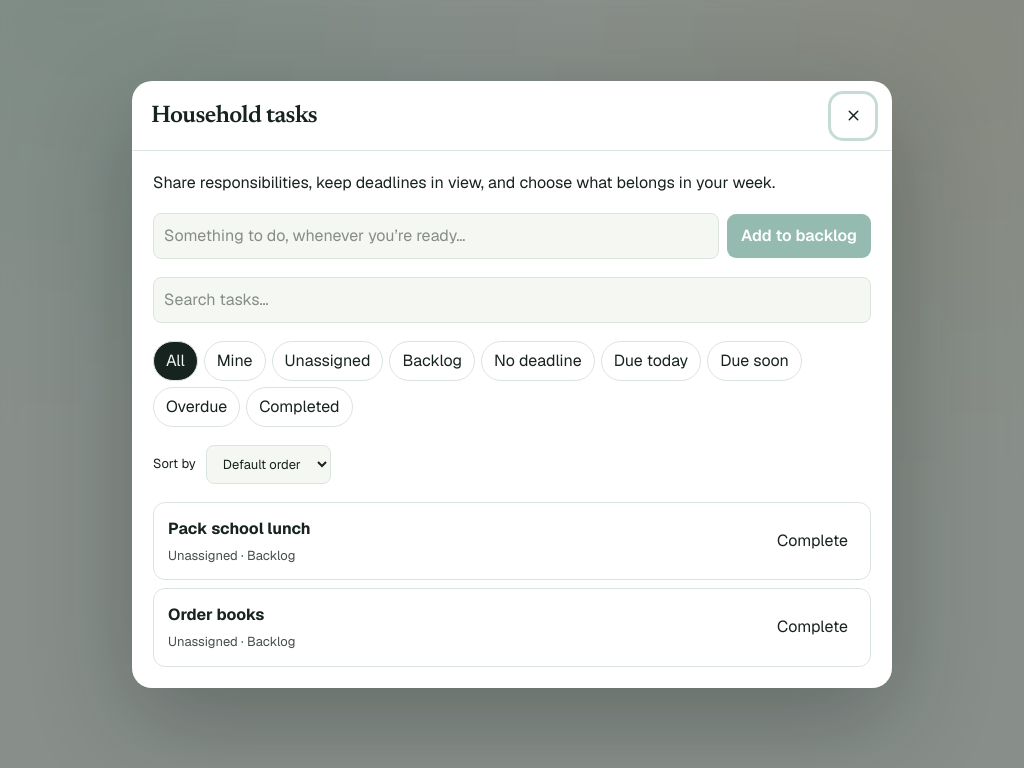
Test: task workspace search › combines text with completion filters and restores the selected view when cleared
The width and height of the screenshot is (1024, 768).
Expected: the button "Pack school lunch Unassigned · Backlog" is shown, 168,516 -> 757,565
Type "  SCHOOL  " into the search field labelled "Search tasks". click: {"x": 512, "y": 300}
box: 153,276 -> 871,322
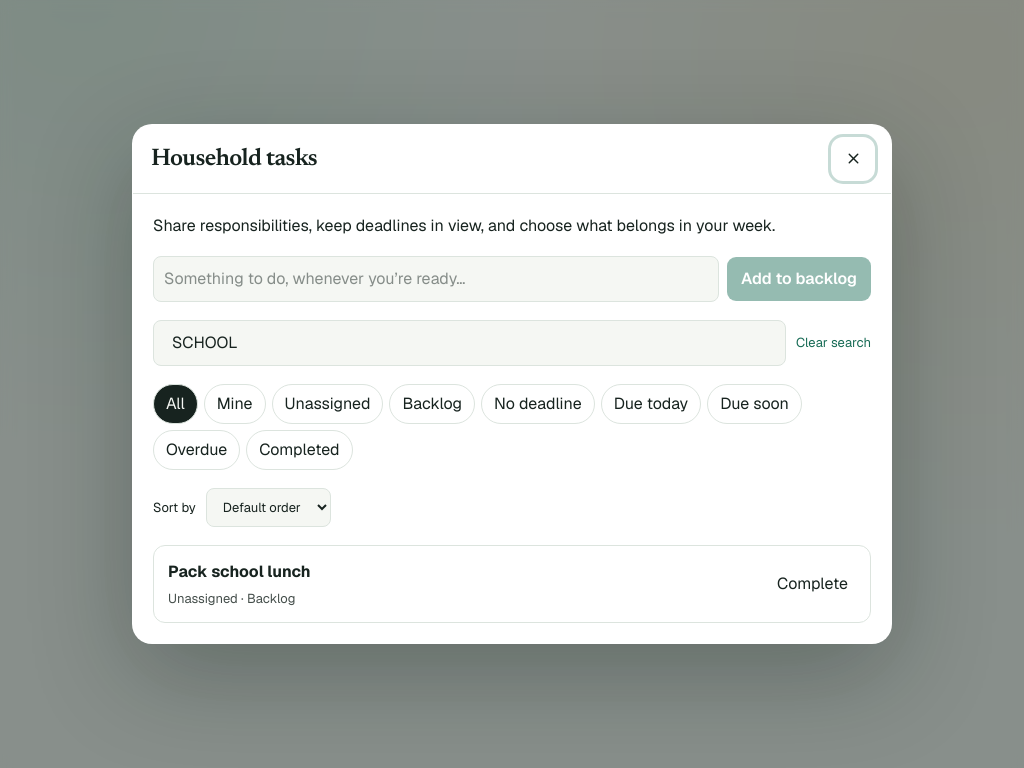
Expected: the button "Pack school supplies" is not shown
Expected: the button "Order books" is gone
Click the button "Completed". click: {"x": 299, "y": 450}
box: 246,430 -> 352,470
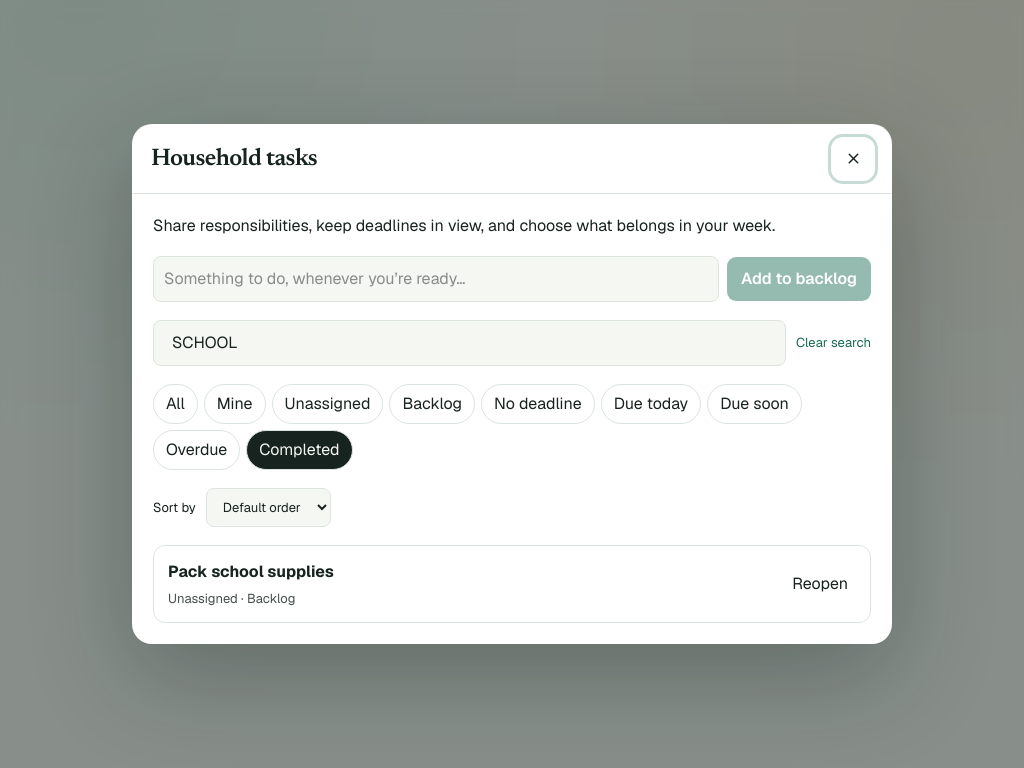
Expected: the button "Pack school supplies Unassigned · Backlog" is shown, 168,560 -> 772,608
Expected: the button "Pack school lunch" is gone
Replace the text in the search field named "Search tasks" with "missing". click: {"x": 469, "y": 343}
box: 153,320 -> 786,366
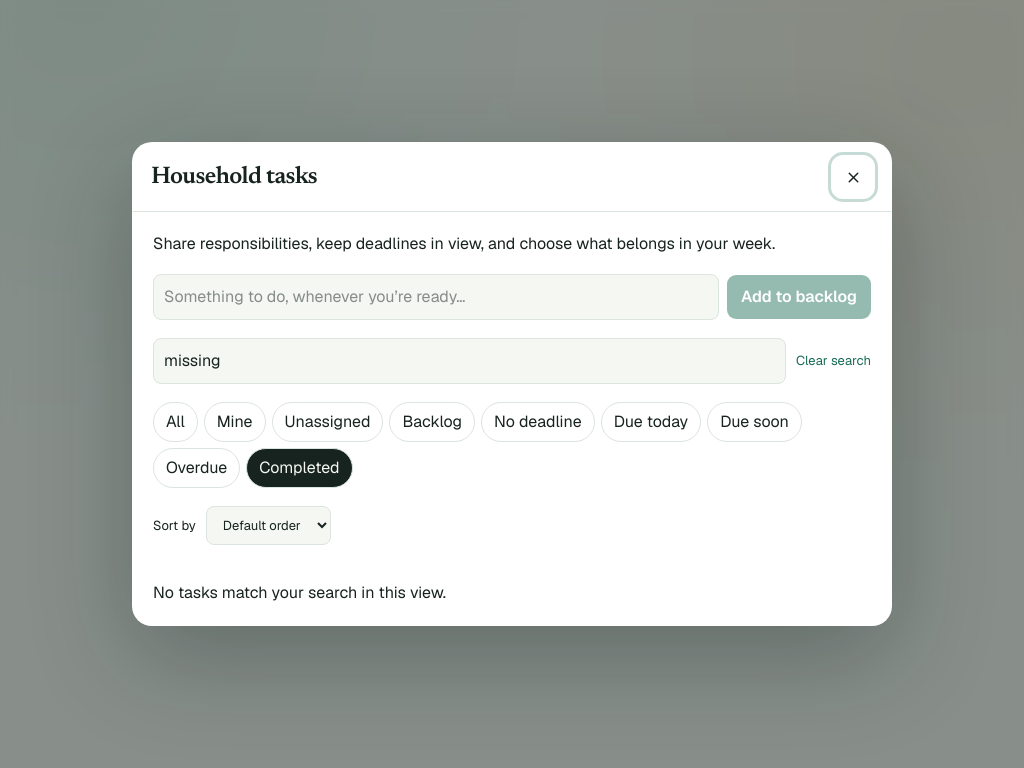
Expected: the message reads "No tasks match your search in this view.", 153,582 -> 446,603
Click the button "Clear search". click: {"x": 833, "y": 361}
box: 796,351 -> 871,371
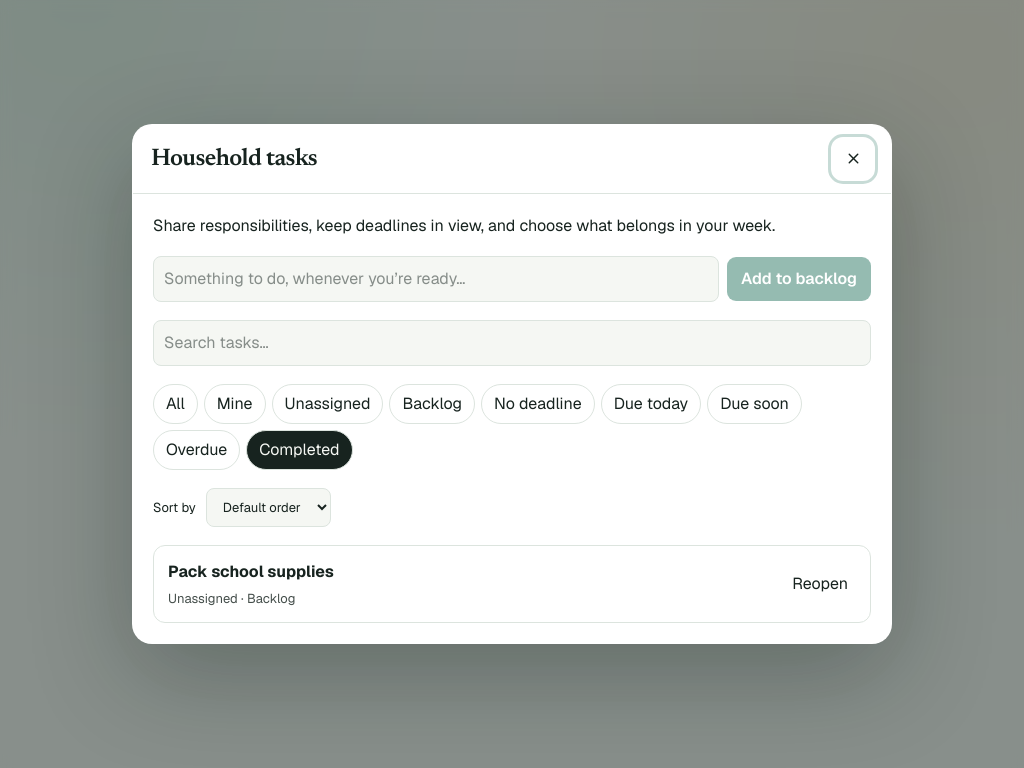
Expected: the search field labelled "Search tasks" is empty, 153,320 -> 871,366
Expected: the button "Pack school supplies Unassigned · Backlog" is shown, 168,560 -> 772,608
